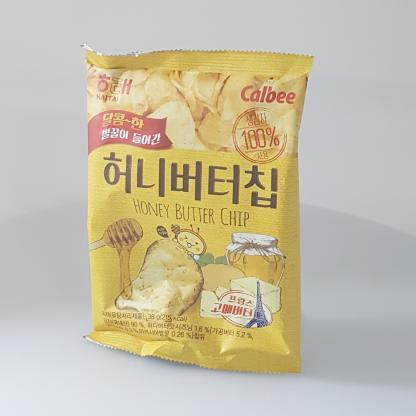Plastic Packaging: (72, 35, 332, 384)
